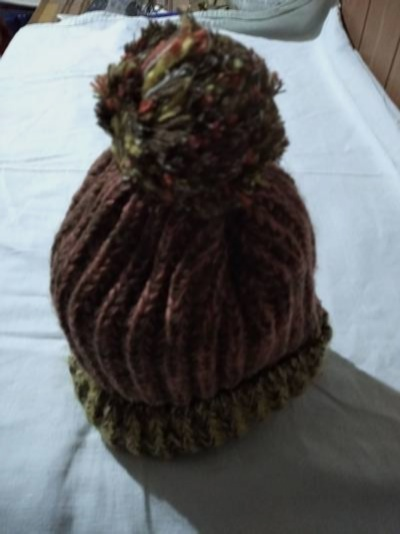Hat: (26, 17, 361, 437)
